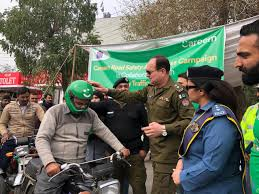helmet: (64, 78, 92, 118)
